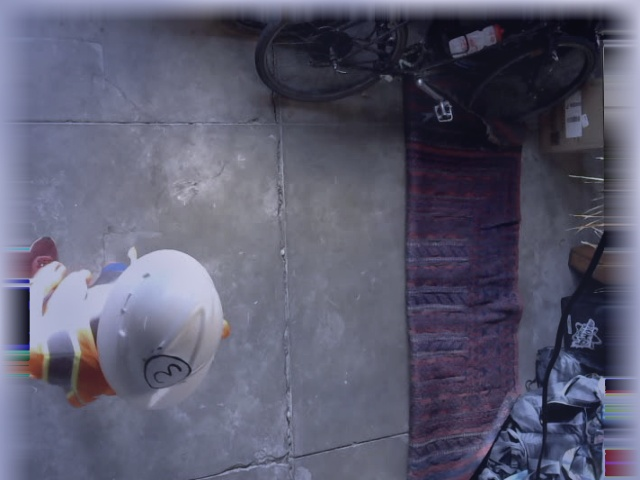three: (145, 352, 191, 388)
